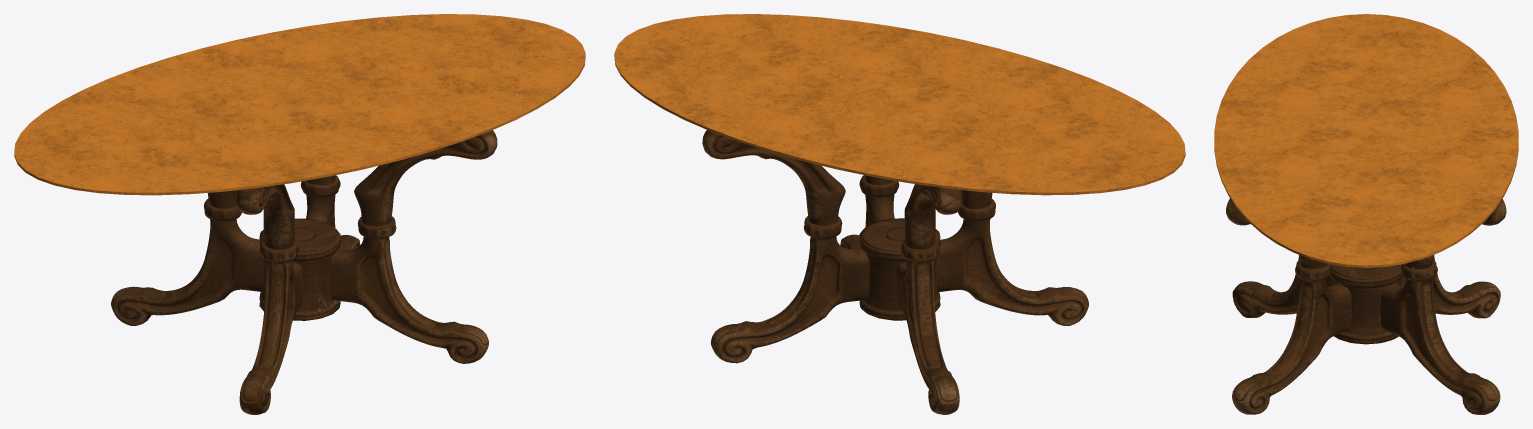
File: table3.glb
The picture shows the model from 3 angles, left to right: view 1: azimuth 30°, elevation 25°; view 2: azimuth 150°, elevation 25°; view 3: azimuth 270°, elevation 25°; orthographic projection. The views are drawn at different scales.
Visible parts, largest first — view 1: Cylinder, Remesh; view 2: Cylinder, Remesh; view 3: Cylinder, Remesh.
Part boxes in pixels (x1=…): Cylinder: x1=14, y1=14, x2=585, y2=195; Remesh: x1=111, y1=130, x2=497, y2=414; Cylinder: x1=614, y1=14, x2=1185, y2=195; Remesh: x1=702, y1=130, x2=1088, y2=414; Cylinder: x1=1214, y1=14, x2=1518, y2=267; Remesh: x1=1226, y1=198, x2=1506, y2=414.
Bounding box in the file's own units: 687 × 286 × 351.
2 materials, 2 textured.
